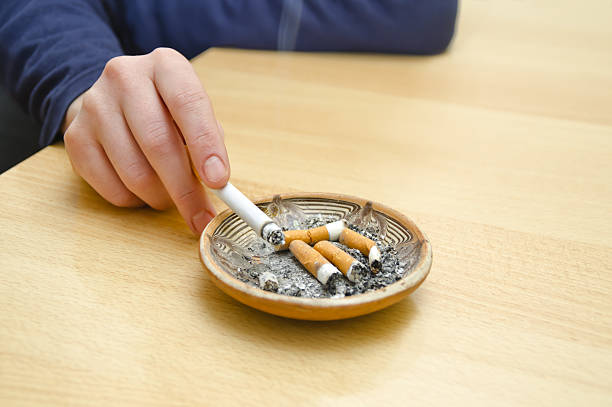cigarette: (215, 183, 287, 246), (288, 238, 349, 296), (314, 237, 372, 284), (274, 219, 351, 251), (336, 223, 383, 273)
